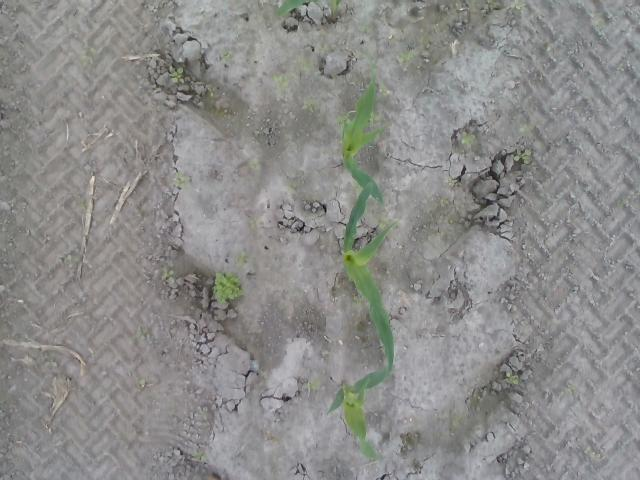Maize: (342, 180, 401, 373), (322, 365, 394, 463), (338, 78, 388, 206), (273, 0, 347, 21)
Weeds: (213, 270, 246, 304), (169, 66, 187, 84), (514, 148, 532, 164), (303, 98, 319, 112), (504, 373, 520, 386), (399, 51, 416, 63), (272, 73, 290, 84), (174, 174, 188, 188), (368, 110, 381, 124), (162, 270, 175, 282), (462, 134, 475, 145), (444, 176, 458, 185), (510, 0, 521, 10), (222, 50, 232, 60), (238, 252, 246, 264), (207, 86, 215, 97)
